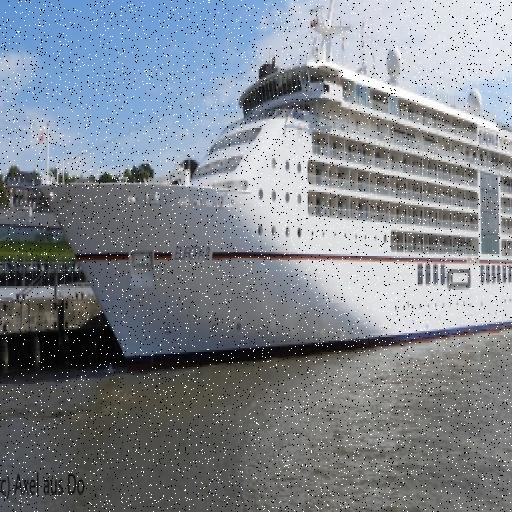cruises: (40, 1, 512, 377)
